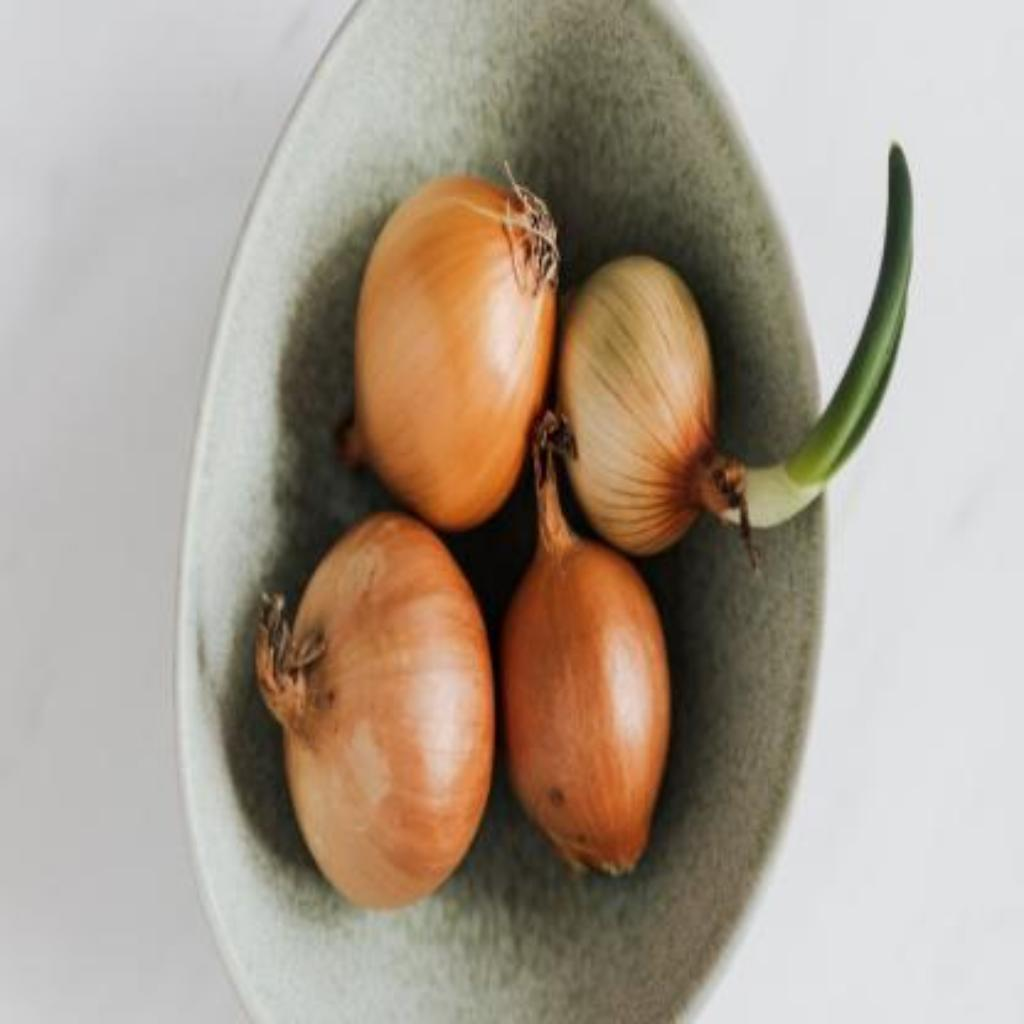Onion: (256, 514, 495, 907), (505, 411, 670, 875), (347, 175, 559, 530), (561, 256, 746, 555)
